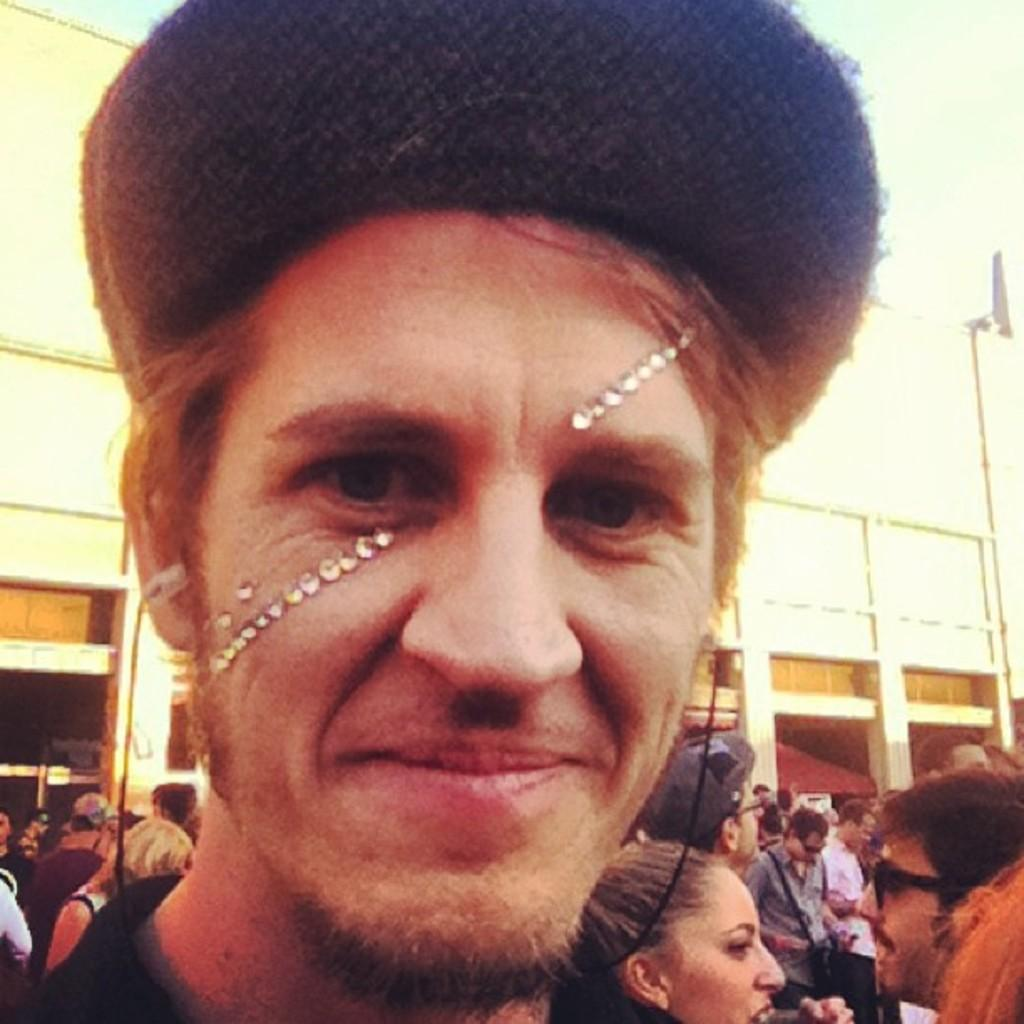Hat: (75, 0, 888, 448), (636, 732, 760, 848)
